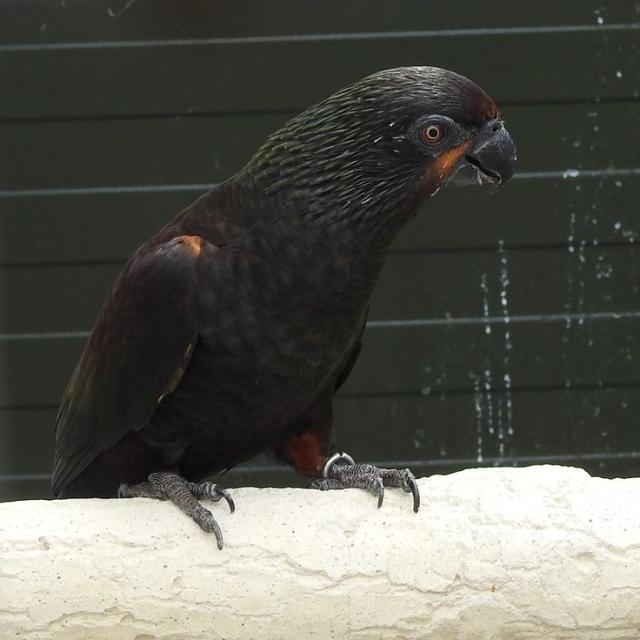Nuri Hitam: (56, 58, 522, 574)
